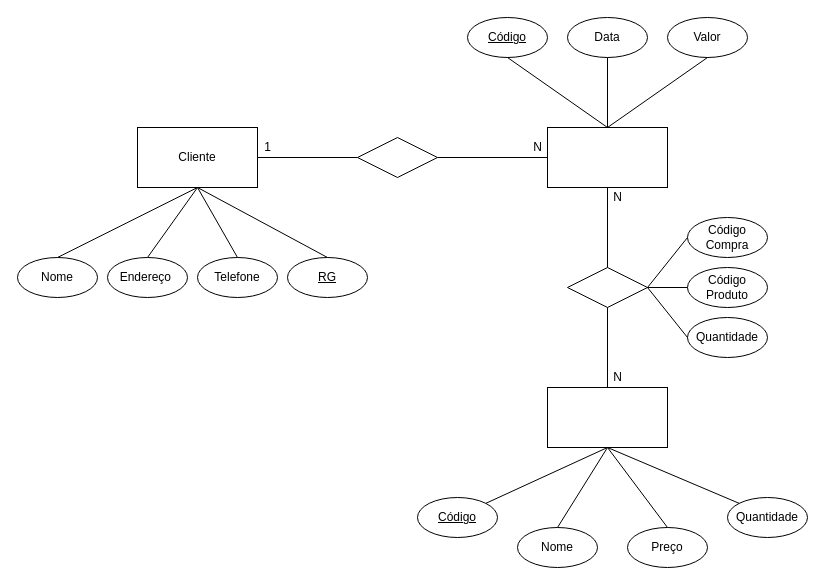
Image size: 825x585. Some labels were removed from this diagram. The shapes that lost their labels are listed below. From the top down, each one's box as (x1, y1, x2, y2) in pixels, then its label:
(356, 136, 438, 178): Realiza
(546, 126, 668, 188): Compra
(566, 266, 648, 308): Possui
(546, 386, 668, 448): Produto
